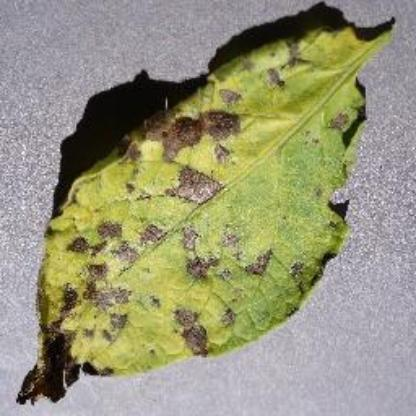Early-Blight: (15, 5, 416, 412)
